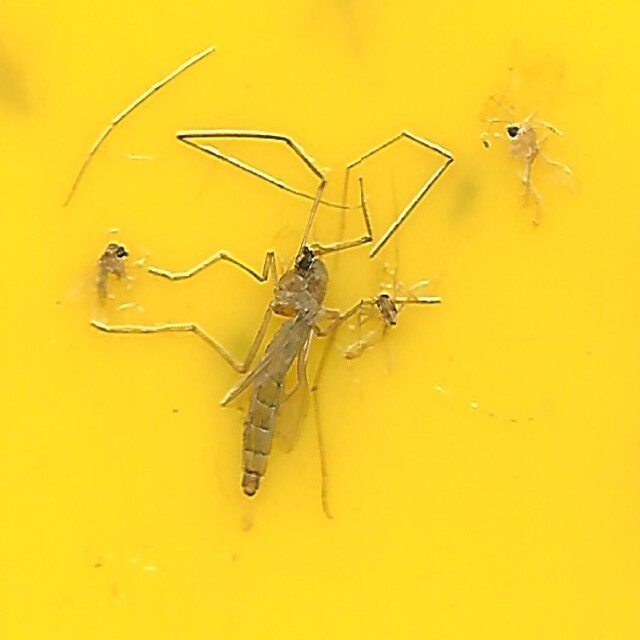Nematocera: (116, 127, 452, 523), (505, 117, 547, 210), (93, 234, 131, 304)
